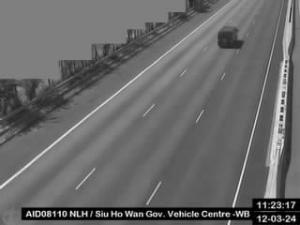vehicle: (217, 27, 239, 50)
